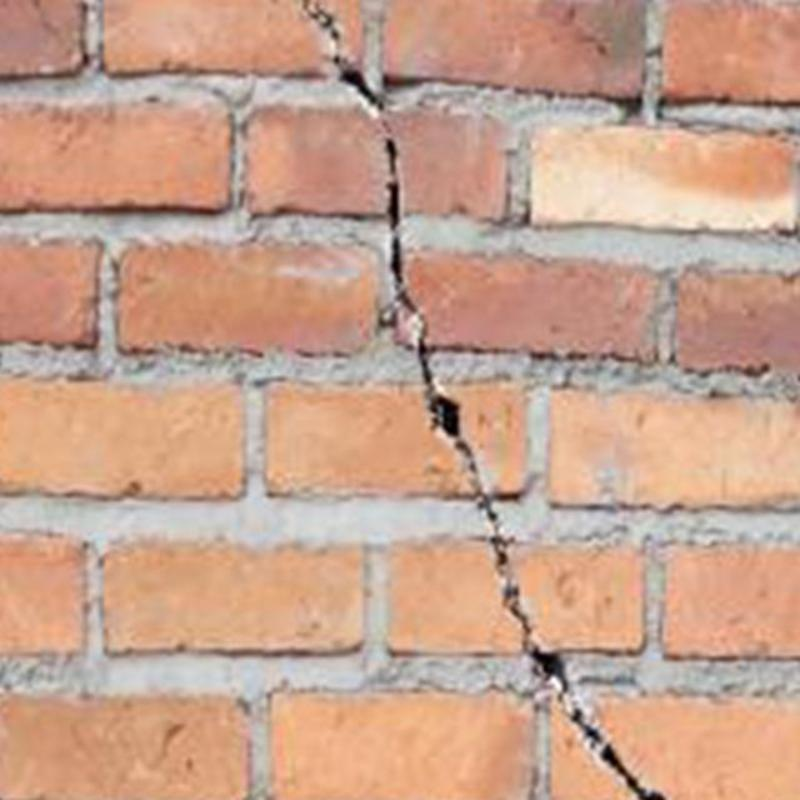pothole: (384, 136, 662, 800), (302, 0, 383, 113)
